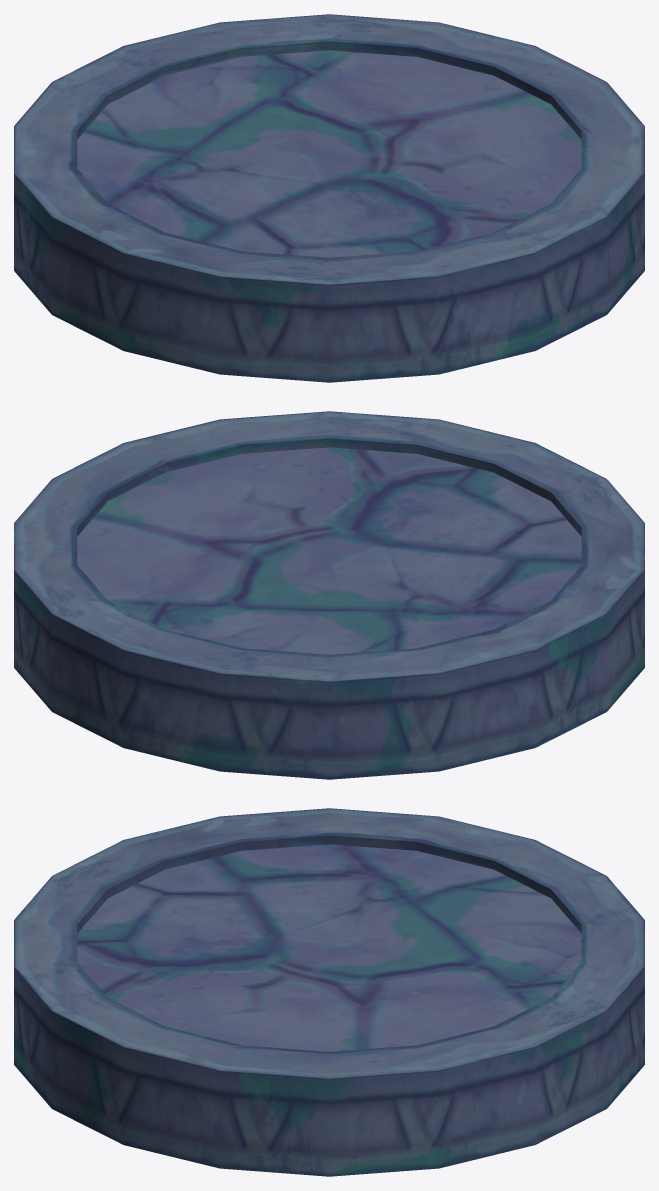
The model's file is stone_tower1_low.fbx.
3 renders of one model, top to bottom at view 1: azimuth 30°, elevation 25°; view 2: azimuth 150°, elevation 25°; view 3: azimuth 270°, elevation 25°, orthographic.
Visible parts, largest first — view 1: Object001; view 2: Object001; view 3: Object001.
Part boxes in pixels (x1=…): Object001: x1=14, y1=14, x2=644, y2=382; Object001: x1=14, y1=411, x2=644, y2=779; Object001: x1=14, y1=808, x2=644, y2=1176.
Bounding box in the file's own units: 34.98 × 5.88 × 34.45.
